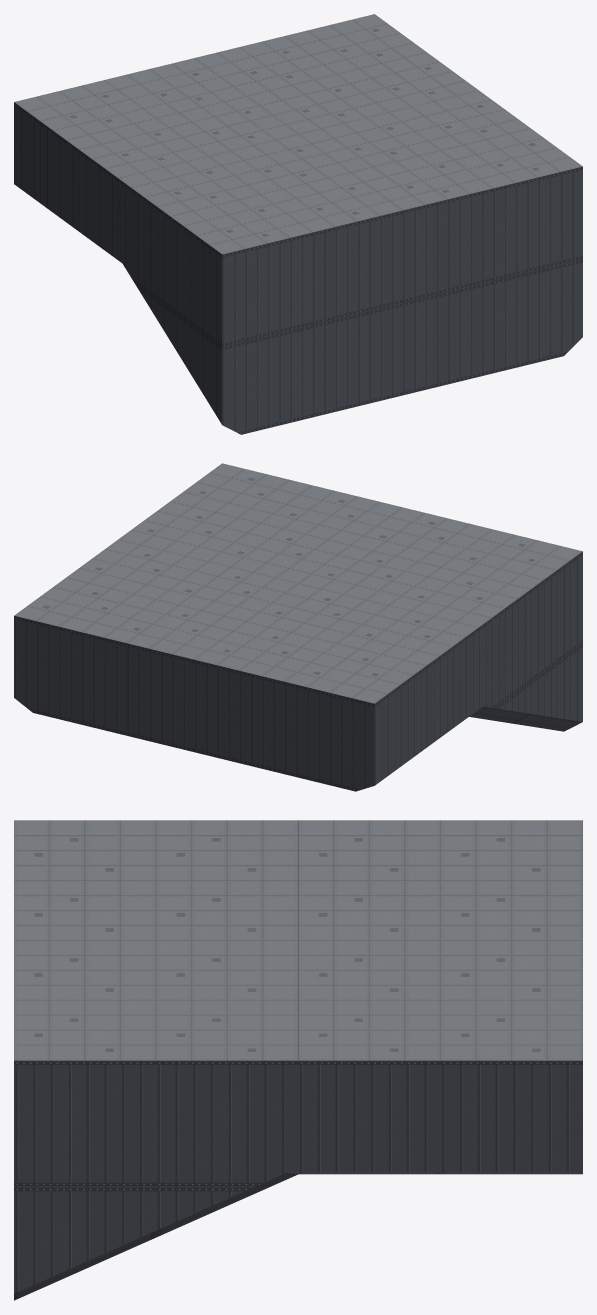
File: BLD_BRG_End.fbx
The picture shows the model from 3 angles, top to bottom: view 1: azimuth 30°, elevation 25°; view 2: azimuth 150°, elevation 25°; view 3: azimuth 270°, elevation 25°; orthographic projection. The views are drawn at different scales.
Visible parts, largest first — view 1: BLD_BRG_End; view 2: BLD_BRG_End; view 3: BLD_BRG_End.
Boxes of the visible parts, left/top/right/bottom form: BLD_BRG_End: left=14, top=14, right=582, bottom=434; BLD_BRG_End: left=14, top=463, right=582, bottom=791; BLD_BRG_End: left=14, top=820, right=582, bottom=1300.
Bounding box in the file's own units: 100 × 49 × 100.
